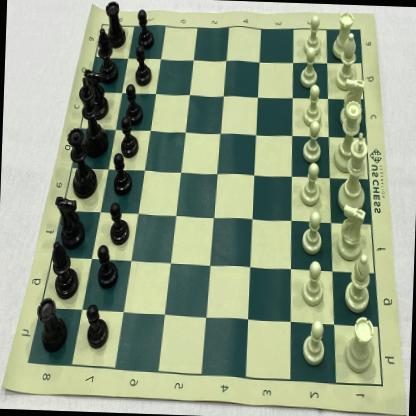black-bishop: (50, 241, 80, 299), (94, 26, 118, 86)
black-king: (76, 80, 110, 158)
black-knight: (52, 194, 88, 248), (80, 68, 110, 121)
black-pawn: (94, 243, 123, 292), (84, 303, 110, 352), (108, 200, 134, 245), (112, 152, 136, 196), (122, 82, 145, 126), (118, 116, 140, 160), (136, 7, 155, 51), (133, 44, 152, 86)
black-queen: (64, 124, 100, 200)
black-rook: (35, 297, 69, 354), (104, 0, 129, 50)
white-bishop: (342, 254, 374, 314), (334, 32, 360, 91)
white-king: (338, 130, 372, 215)
white-knight: (337, 203, 368, 261), (338, 77, 368, 127)
white-pawn: (300, 319, 330, 367), (302, 261, 327, 309), (300, 209, 324, 256), (300, 162, 324, 207), (300, 120, 324, 162), (300, 47, 321, 91), (304, 84, 325, 128), (303, 13, 324, 56)
white-queen: (333, 100, 364, 174)
white-rook: (344, 315, 378, 375), (332, 8, 356, 60)
